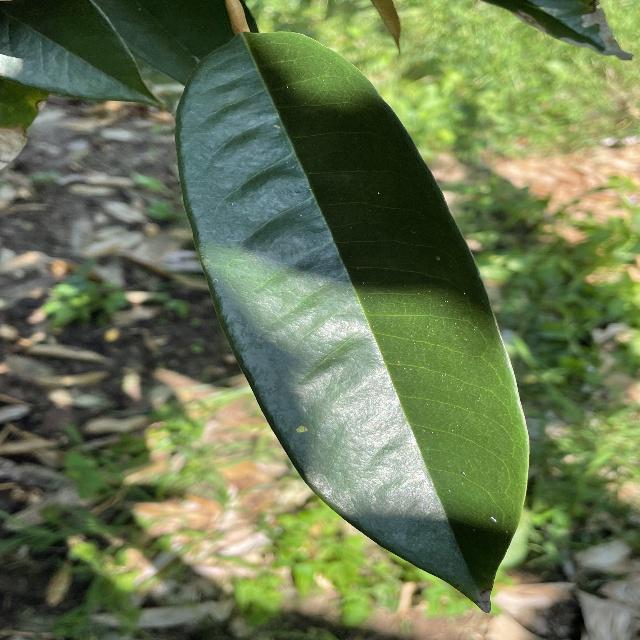No Disease: (169, 21, 537, 625)
